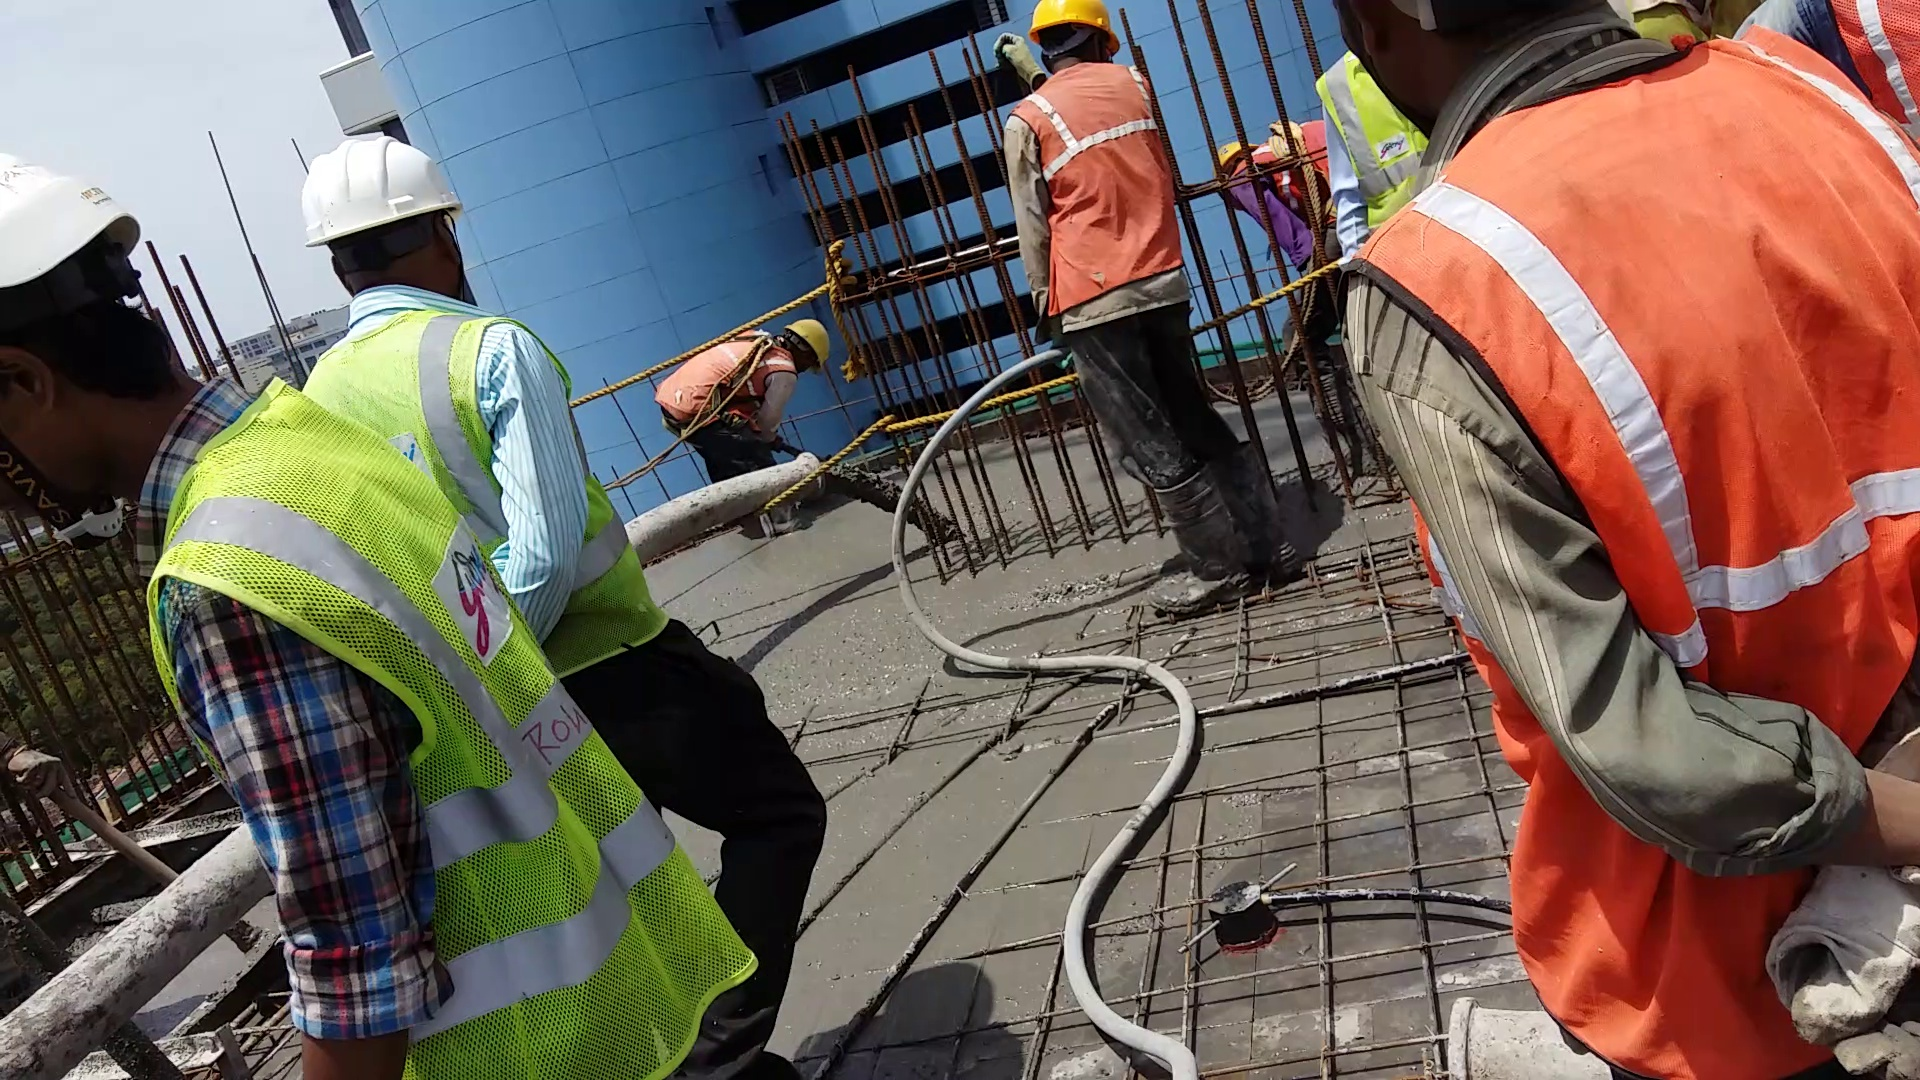SAFE: (3, 167, 512, 1080), (345, 113, 551, 444), (1021, 1, 1182, 309), (653, 313, 832, 430)
